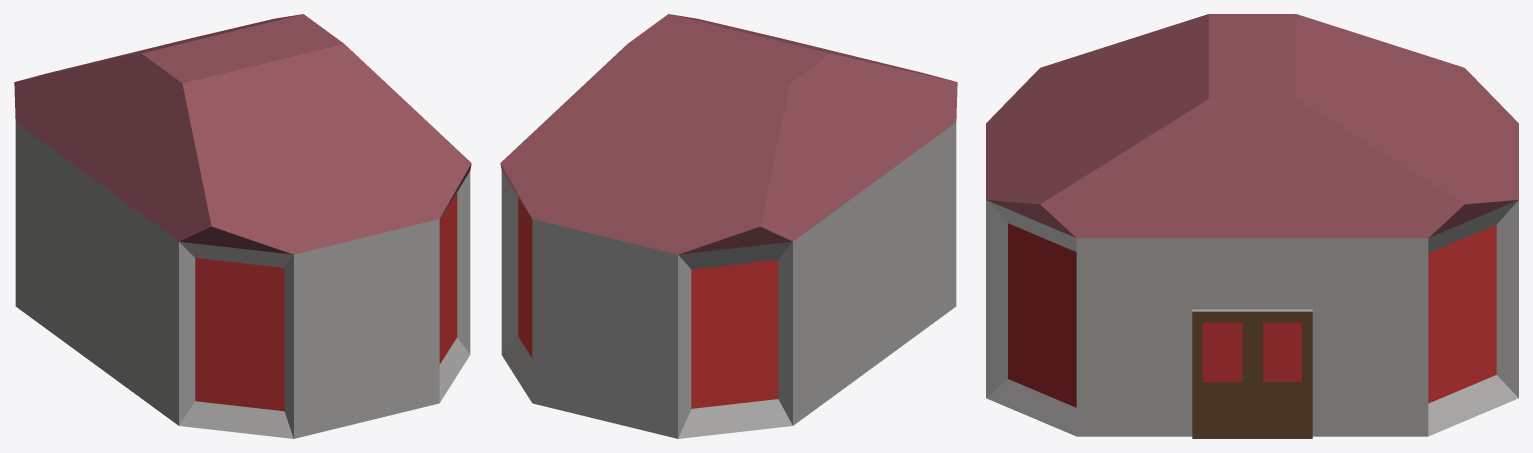
File: Brothel.fbx
The picture shows the model from 3 angles, left to right: view 1: azimuth 30°, elevation 25°; view 2: azimuth 150°, elevation 25°; view 3: azimuth 270°, elevation 25°; orthographic projection. The views are drawn at different scales.
Parts seen in each view (by area): view 1: Brothel; view 2: Brothel; view 3: Brothel.
Part boxes in pixels (box(x1,y1,x2,y2)): Brothel: box(14, 14, 471, 438); Brothel: box(500, 14, 957, 438); Brothel: box(986, 14, 1518, 438).
Size of the model in its own units: 3.05 by 2.79 by 4.43.
